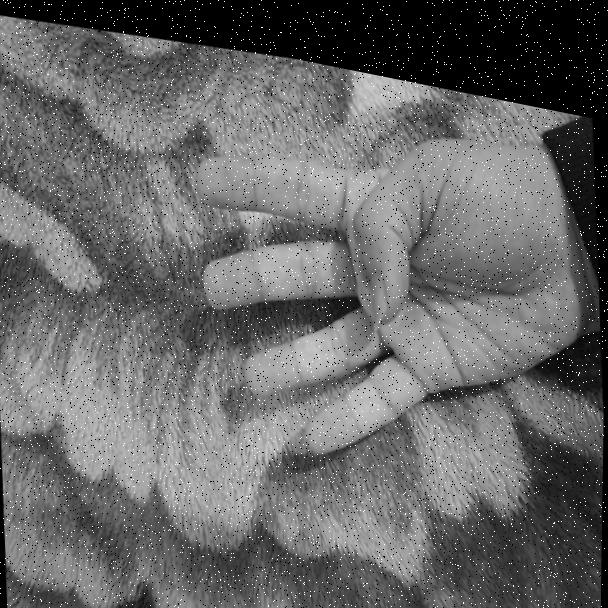four: (175, 79, 591, 501)
